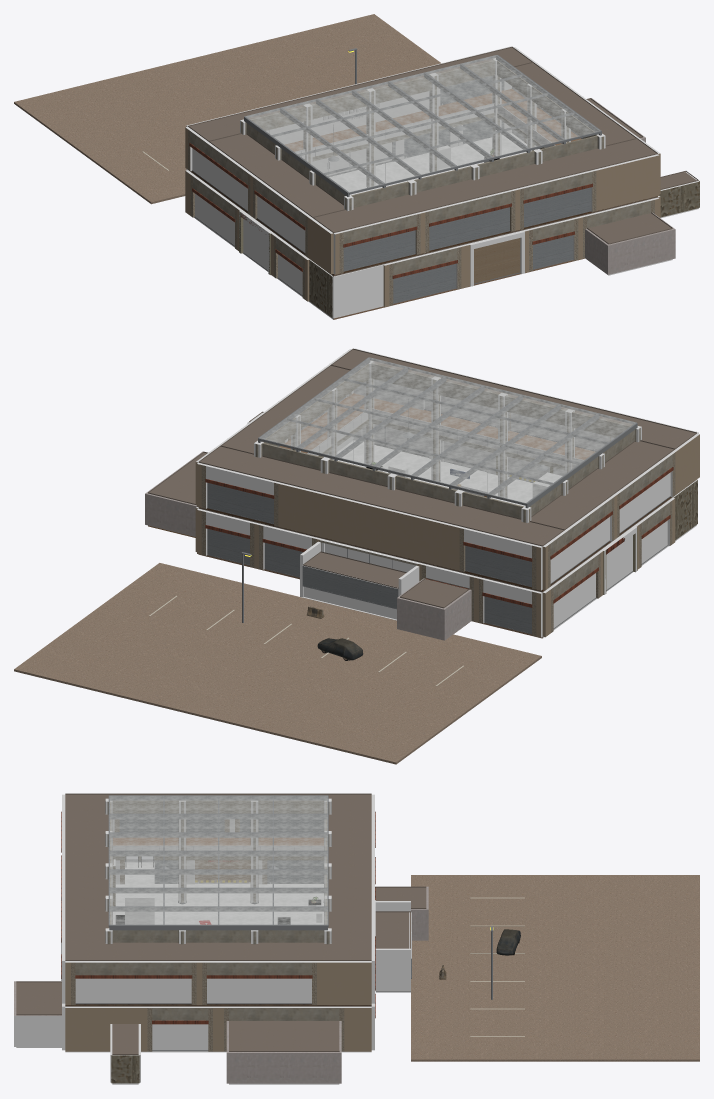
3 renders of one model, top to bottom at view 1: azimuth 30°, elevation 25°; view 2: azimuth 150°, elevation 25°; view 3: azimuth 270°, elevation 25°, orthographic. The views are drawn at different scales.
Visible parts, largest first — view 1: S_asphalt, S_glass_dusty, COL, S_ceiling, S_plaster_white, S_steel_dark, S_shutter, S_plaster_beige, S_marble, S_plaster, S_terrazzo, S_painted_metal (+3 smaller); view 2: S_asphalt, COL, S_glass_dusty, S_ceiling, S_plaster_white, S_plaster_beige, S_steel_dark, S_shutter, S_plaster, S_marble, S_terrazzo, S_painted_metal (+3 smaller); view 3: S_asphalt, S_glass_dusty, S_ceiling, COL, S_steel_dark, S_plaster_white, S_plaster_beige, S_plaster, S_shutter, S_marble, S_terrazzo, S_painted_metal (+5 smaller).
Part boxes in pixels (x1,y1,x2,y2): S_asphalt: [14, 14, 440, 204]; S_glass_dusty: [245, 55, 600, 192]; COL: [185, 46, 699, 319]; S_ceiling: [188, 46, 698, 276]; S_plaster_white: [190, 60, 650, 275]; S_steel_dark: [192, 48, 601, 303]; S_shutter: [343, 76, 591, 302]; S_plaster_beige: [185, 127, 660, 306]; S_marble: [188, 105, 654, 305]; S_plaster: [585, 98, 675, 274]; S_terrazzo: [285, 89, 584, 319]; S_painted_metal: [189, 143, 592, 278]; S_asphalt: [14, 563, 541, 764]; COL: [196, 348, 699, 637]; S_glass_dusty: [260, 357, 636, 503]; S_ceiling: [148, 348, 696, 608]; S_plaster_white: [255, 363, 672, 599]; S_plaster_beige: [195, 434, 699, 637]; S_steel_dark: [207, 357, 670, 634]; S_shutter: [207, 396, 531, 633]; S_plaster: [145, 451, 471, 640]; S_marble: [201, 392, 675, 636]; S_terrazzo: [199, 393, 594, 638]; S_painted_metal: [205, 467, 673, 607]; S_asphalt: [411, 875, 699, 1061]; S_glass_dusty: [109, 795, 327, 925]; S_ceiling: [16, 793, 426, 1054]; COL: [14, 793, 411, 1084]; S_steel_dark: [75, 795, 493, 1050]; S_plaster_white: [75, 800, 339, 1020]; S_plaster_beige: [65, 962, 371, 1051]; S_plaster: [14, 886, 428, 1083]; S_shutter: [119, 819, 411, 977]; S_marble: [71, 819, 344, 1051]; S_terrazzo: [113, 837, 323, 845]; S_painted_metal: [61, 811, 375, 1024].
Bounding box in the file's own units: 45.2 × 11 × 62.7.
Materials: 75 (38 with a texture image).
